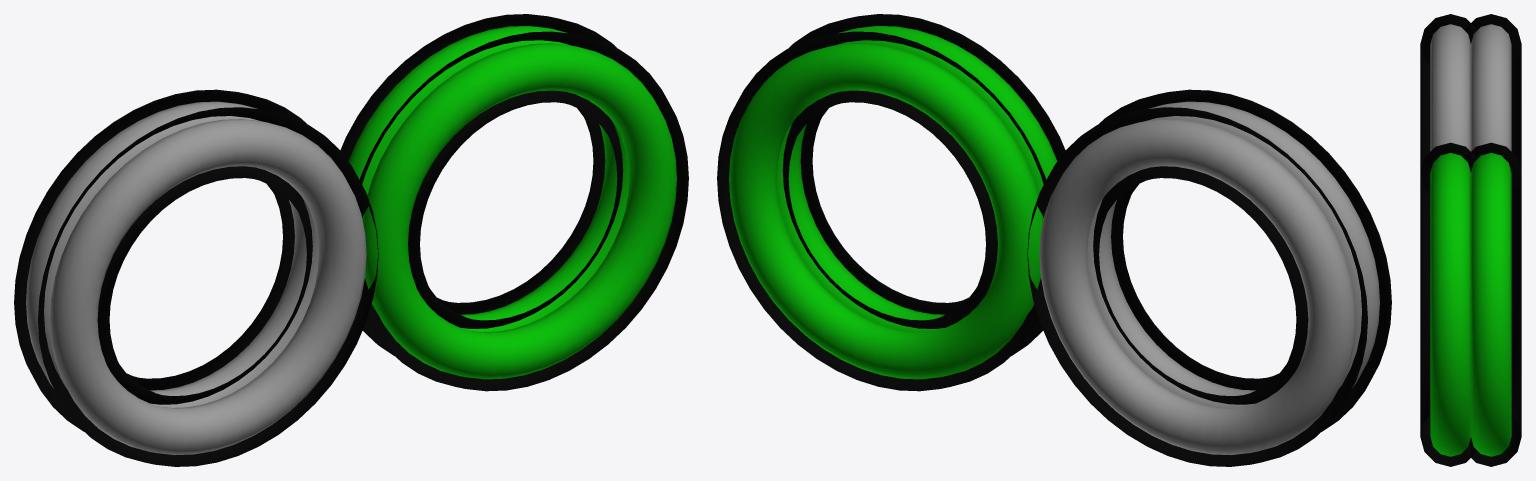
File: japanese_8_in_2_step_02.glb
The picture shows the model from 3 angles, left to right: view 1: azimuth 30°, elevation 25°; view 2: azimuth 150°, elevation 25°; view 3: azimuth 270°, elevation 25°; orthographic projection. The views are drawn at different scales.
Parts seen in each view (by area): view 1: Torus AR 6.018, Torus AR 6.001, Torus AR 6.017, Torus AR 6.002; view 2: Torus AR 6.017, Torus AR 6.002, Torus AR 6.018, Torus AR 6.001; view 3: Torus AR 6.001, Torus AR 6.002, Torus AR 6.017, Torus AR 6.018.
Part boxes in pixels (bbox=[...]): Torus AR 6.018: bbox=[38, 107, 378, 466]; Torus AR 6.001: bbox=[359, 31, 688, 391]; Torus AR 6.017: bbox=[14, 89, 318, 431]; Torus AR 6.002: bbox=[340, 14, 629, 355]; Torus AR 6.017: bbox=[1027, 107, 1367, 466]; Torus AR 6.002: bbox=[717, 31, 1046, 391]; Torus AR 6.018: bbox=[1087, 89, 1391, 431]; Torus AR 6.001: bbox=[776, 14, 1065, 355]; Torus AR 6.001: bbox=[1420, 142, 1477, 466]; Torus AR 6.002: bbox=[1464, 142, 1521, 466]; Torus AR 6.017: bbox=[1464, 14, 1521, 171]; Torus AR 6.018: bbox=[1420, 14, 1477, 171].
Bounding box in the file's own units: 6.2 × 3.2 × 1.
